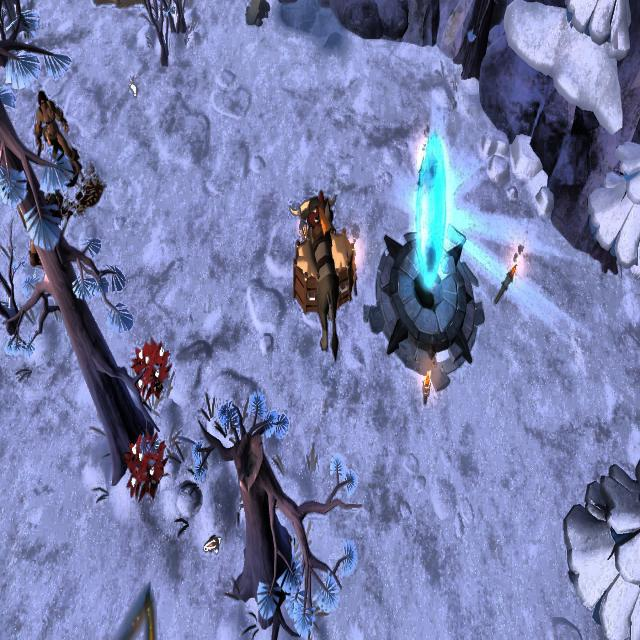enemy_factionKeeper: (31, 86, 75, 167)
fiber_t5: (126, 430, 169, 498), (133, 336, 174, 400)
